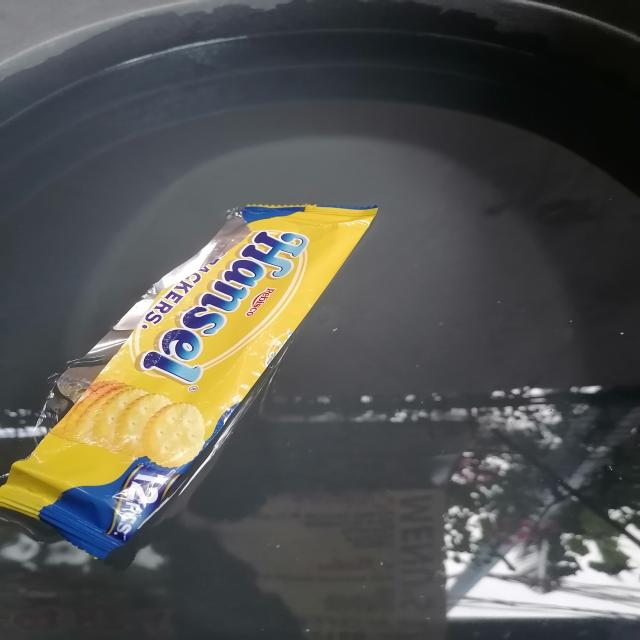Plastic Wrapper: (0, 204, 377, 557)
